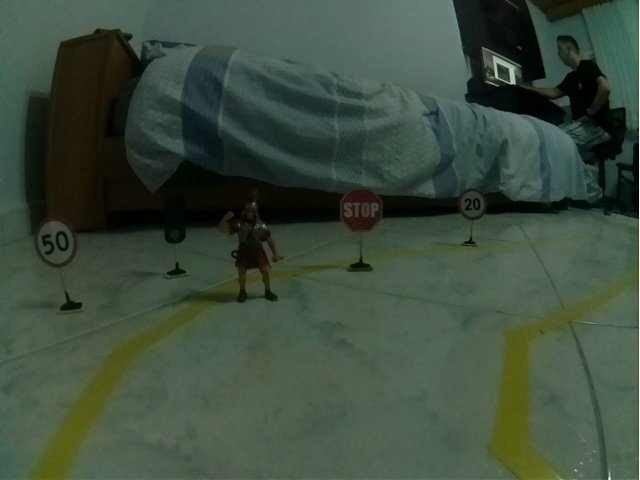Green Traffic Light: (164, 188, 186, 244)
Person: (218, 187, 284, 303)
Speed Limit 20: (458, 188, 487, 220)
Speed Limit 50: (34, 217, 78, 268)
Stop: (340, 188, 383, 232)
